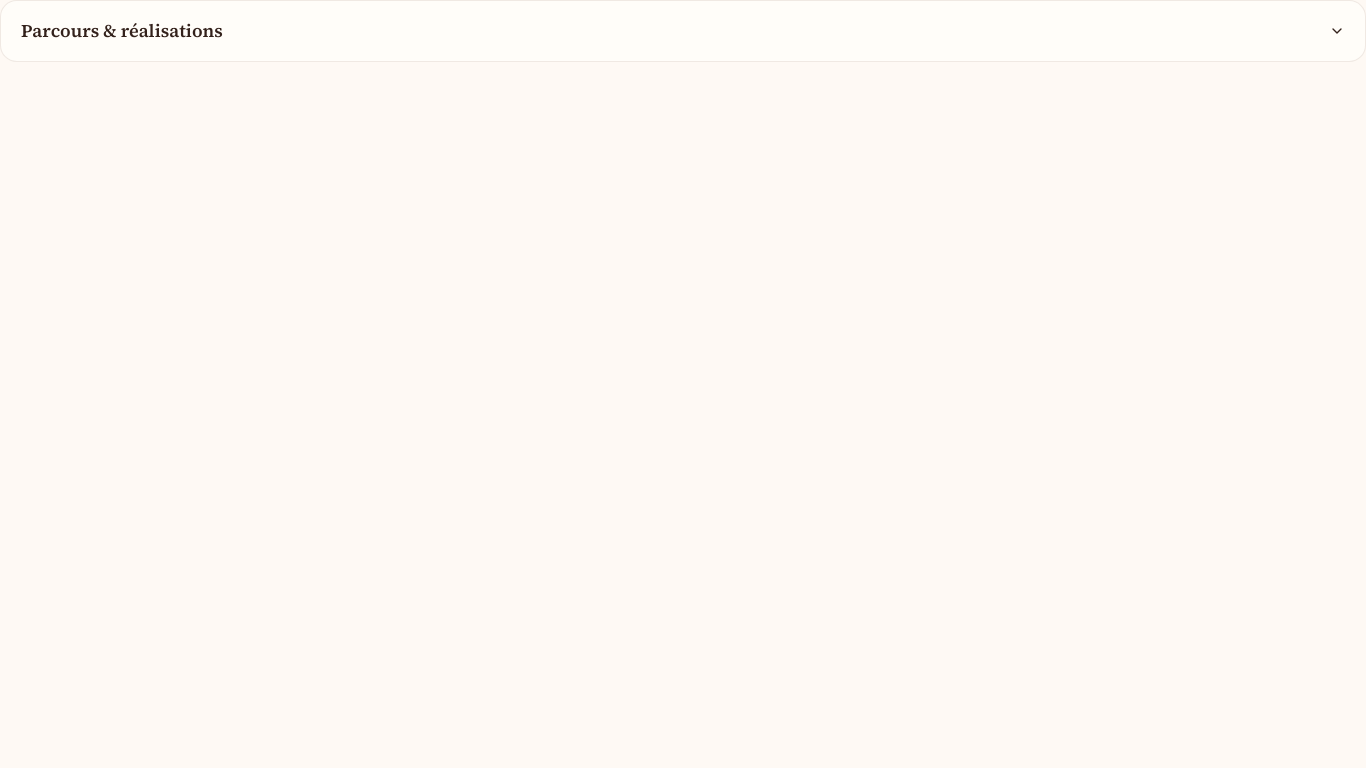
Scenario: ParcoursContentForm › enables the save button after an edit
Click the button "Parcours & réalisations" at coordinates (122, 30), box [1,1,1365,61]
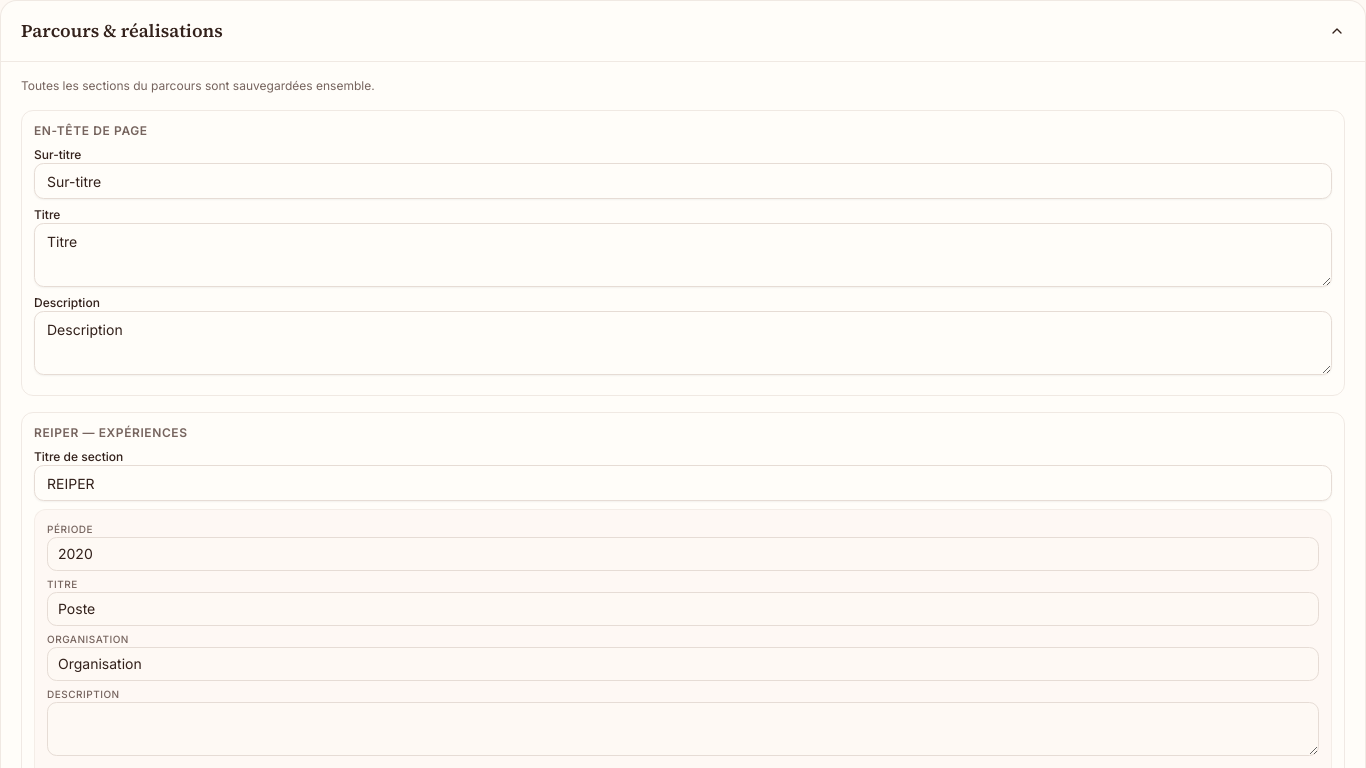
Replace the text in the field below "Sur-titre" with "Nouveau" at coordinates (683, 181), box [34,163,1332,199]
(page scrolled)
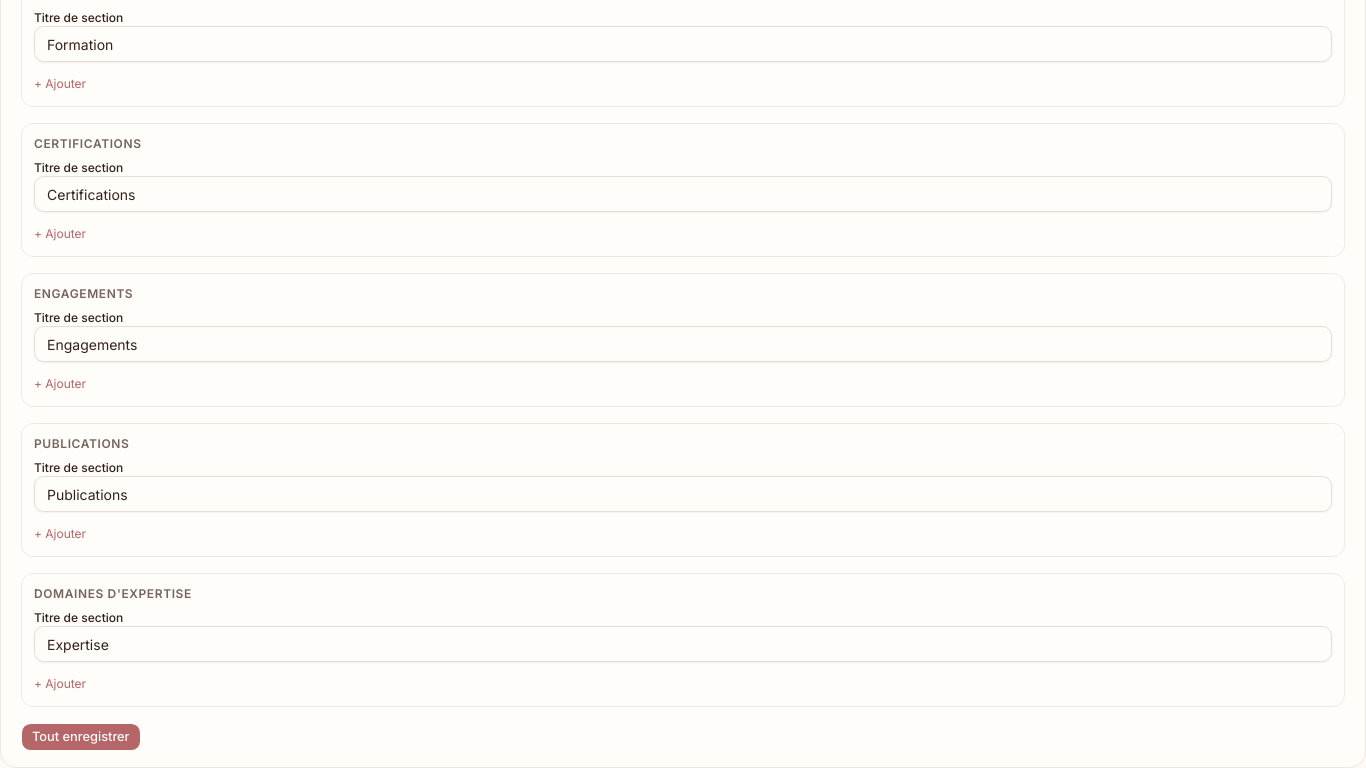
Expected: the button "Tout enregistrer" is enabled, [21,723,141,751]
